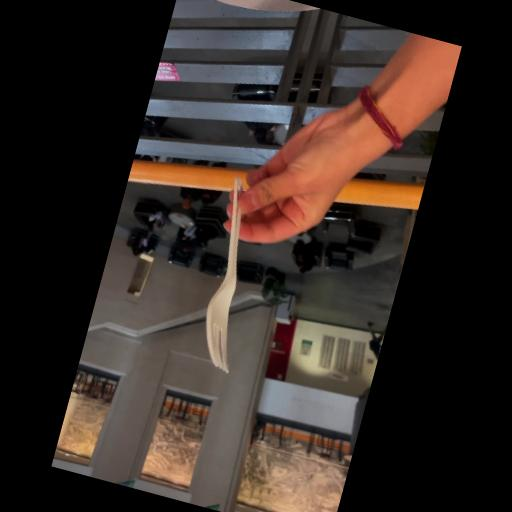utensil: (150, 151, 298, 389)
